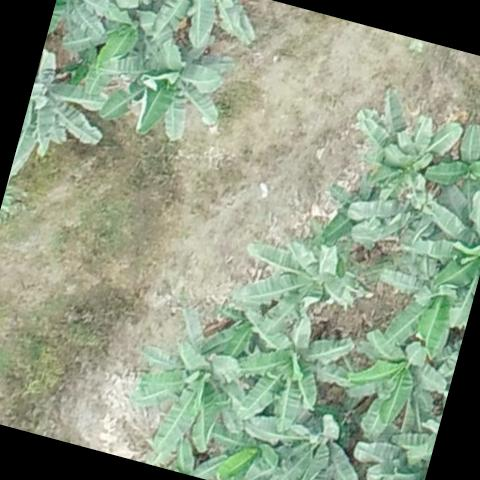Banana-plant: (122, 306, 258, 464), (94, 24, 237, 150), (227, 300, 357, 438), (9, 46, 116, 194), (232, 226, 362, 343), (342, 86, 464, 206), (338, 324, 450, 450), (361, 246, 467, 360), (233, 398, 370, 480), (400, 184, 480, 322), (180, 413, 287, 480), (424, 112, 480, 212), (48, 0, 135, 46)
